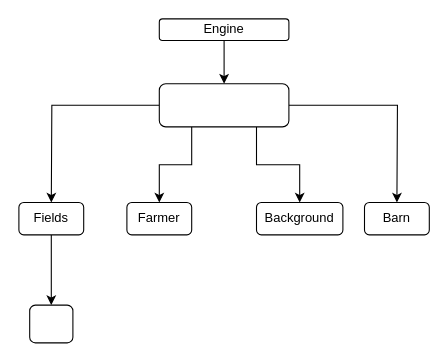
Some shapes in this 448 by 362 pixel diagram are drawn without their labels. Each missing label, with the centre of its shape:
"Crops" goes at [51,323].
"Farmscene" goes at [223,105].
